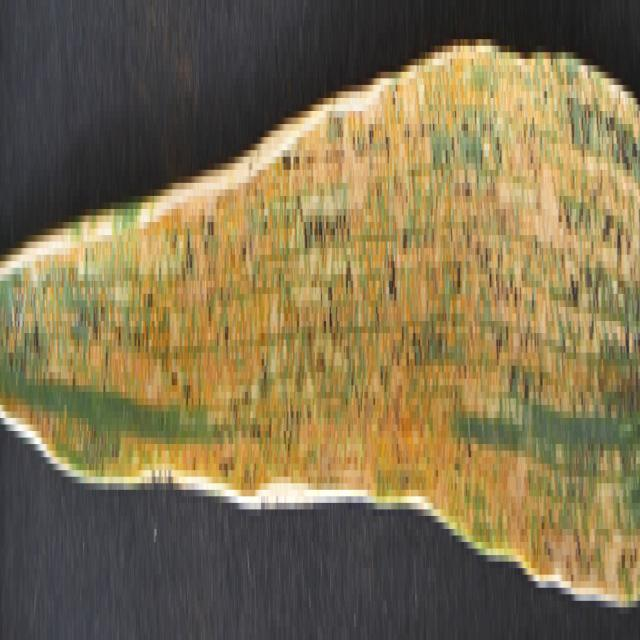leaf rust: (1, 52, 636, 588)
